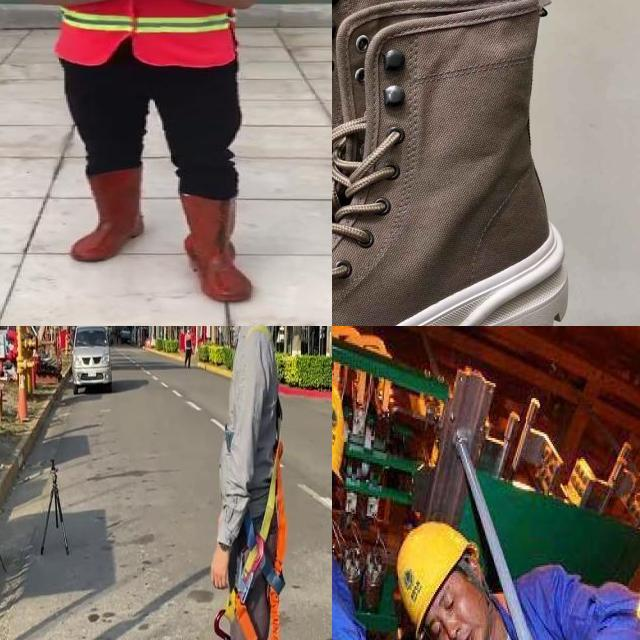Harness: (228, 443, 287, 640)
Sandals: (332, 0, 596, 326)
boots: (178, 189, 251, 301), (72, 167, 146, 261)
person: (4, 0, 282, 310)
vest: (44, 0, 238, 67)
